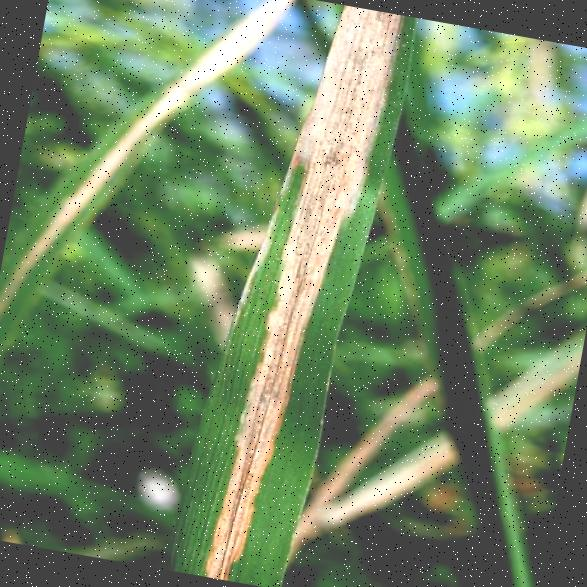Bacteria_Leaf_Blight: (204, 0, 367, 584)
